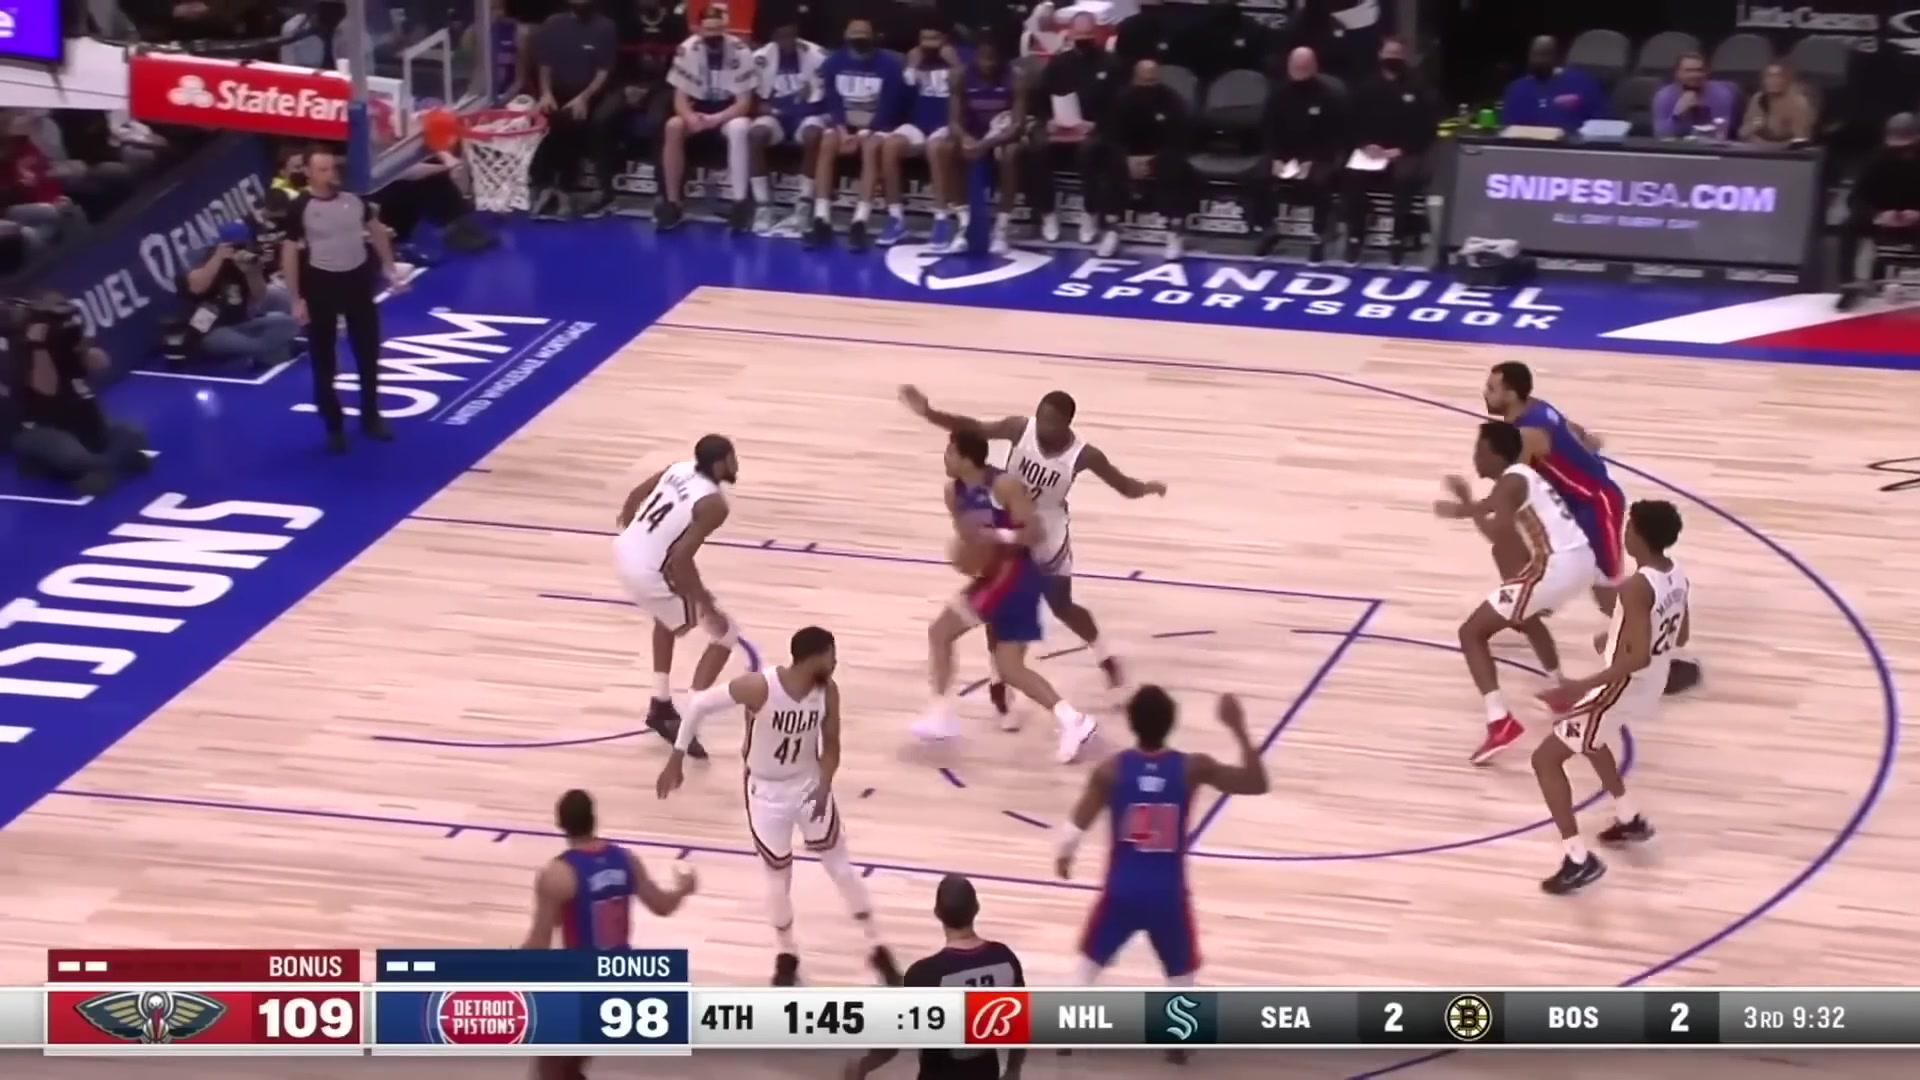no_foul: (841, 352, 1150, 750)
